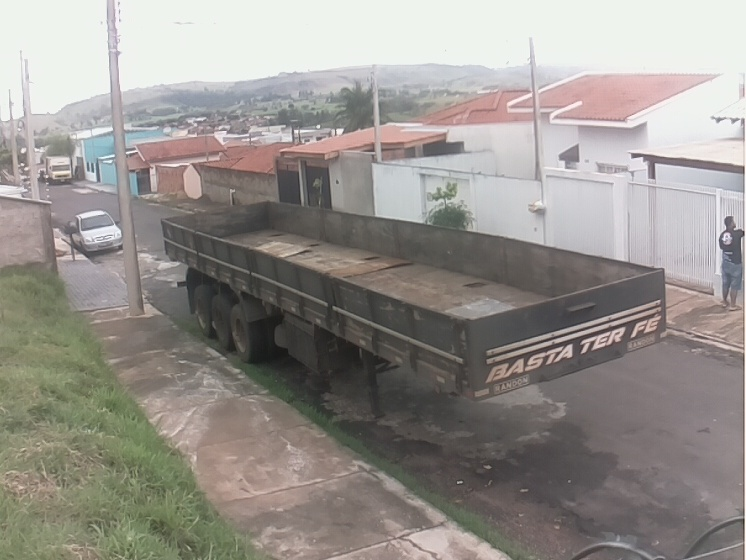person: (717, 215, 744, 312)
